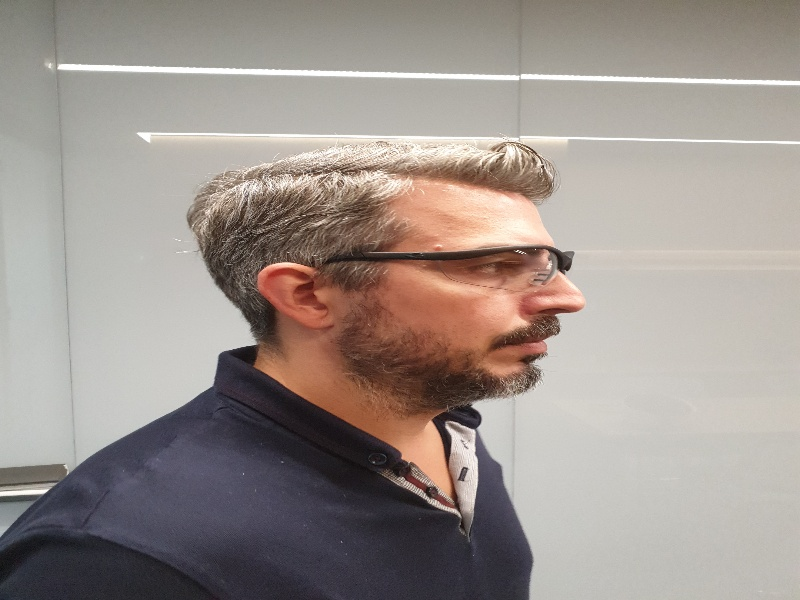Gozluk: (297, 245, 583, 296)
